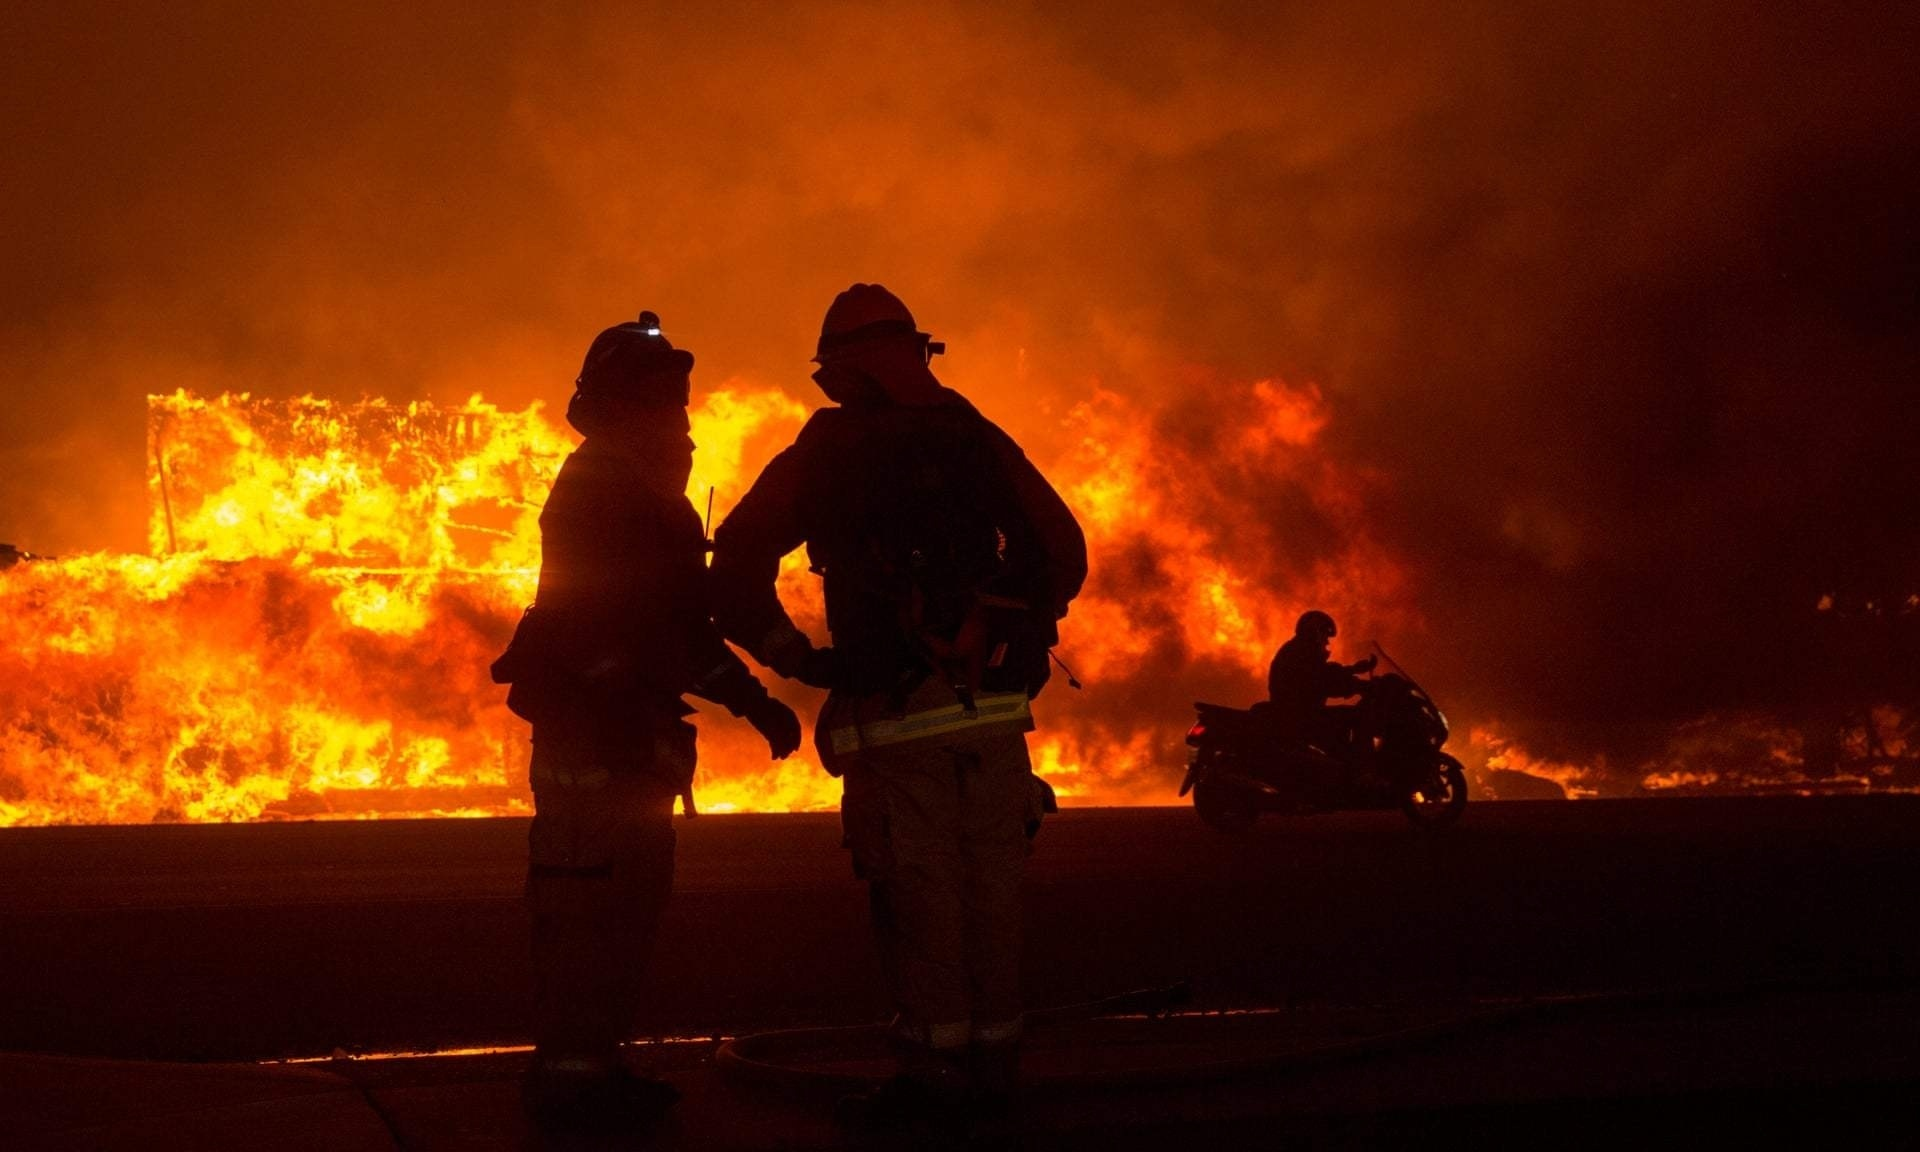fire: (1015, 369, 1806, 832), (7, 373, 573, 823), (671, 730, 843, 821)
